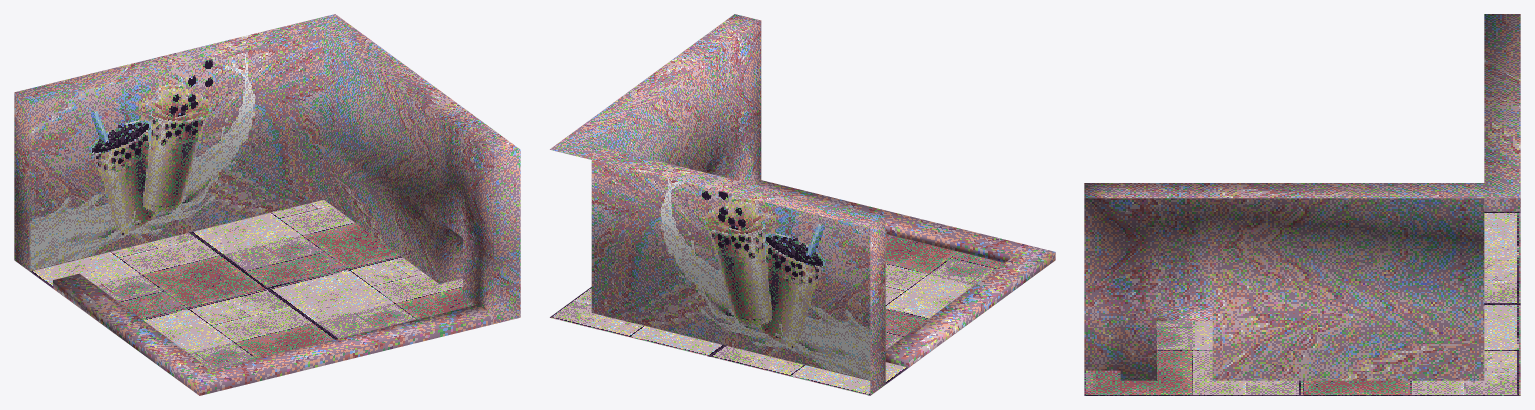
File: restaurant.glb
The picture shows the model from 3 angles, left to right: view 1: azimuth 30°, elevation 25°; view 2: azimuth 150°, elevation 25°; view 3: azimuth 270°, elevation 25°; orthographic projection. The views are drawn at different scales.
Parts seen in each view (by area): view 1: walls, ground; view 2: walls, ground; view 3: walls, ground.
Part boxes in pixels (x1,y1,x2,y2): walls: [14, 14, 520, 395]; ground: [30, 200, 469, 369]; walls: [550, 14, 1055, 395]; ground: [550, 234, 1004, 395]; walls: [1084, 14, 1520, 380]; ground: [1084, 211, 1520, 395].
Bounding box in the file's own units: 24 × 12 × 24.
2 materials, 2 textured.
